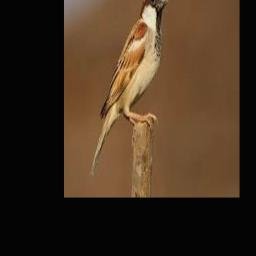Sparrow: (90, 0, 168, 177)
